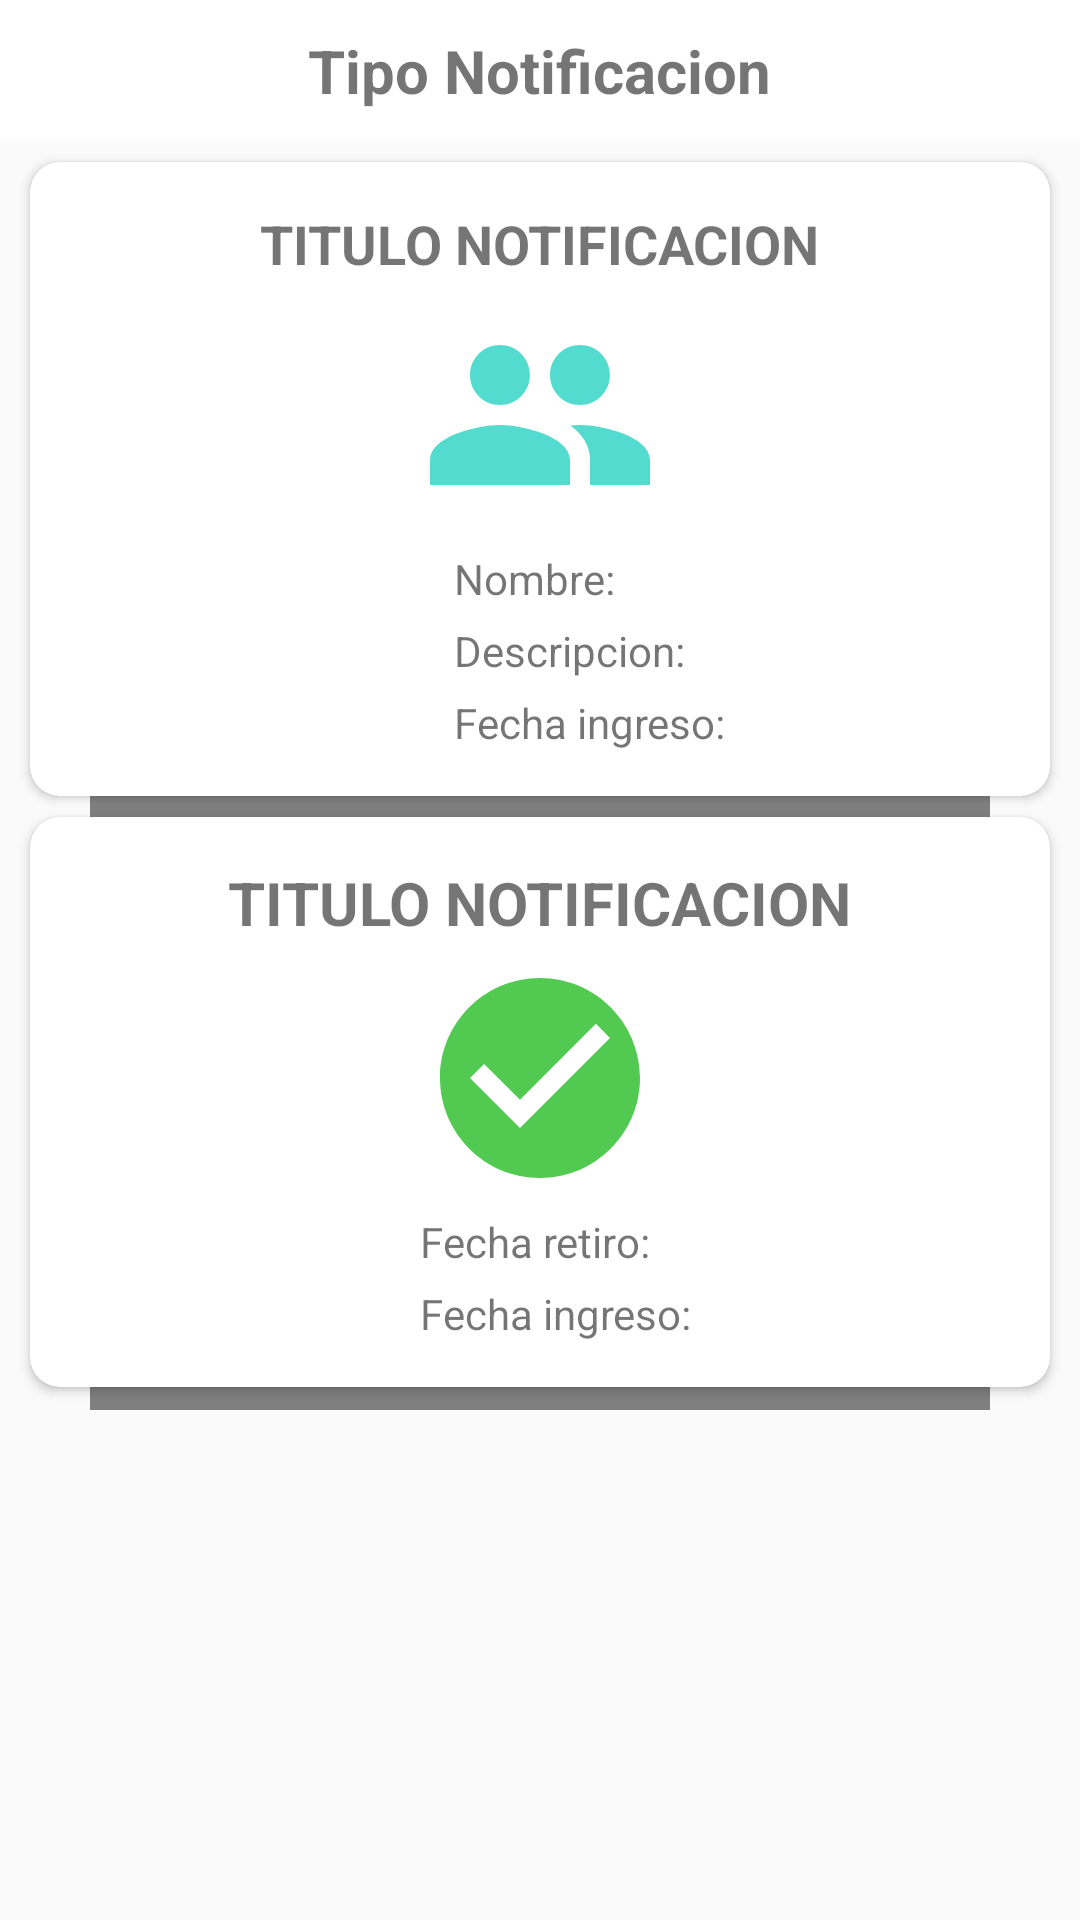

Named icons in this screenshot (1080x1920) and their centers, [x,y]:
check accept: [540,1078]
visitas: [540,415]
